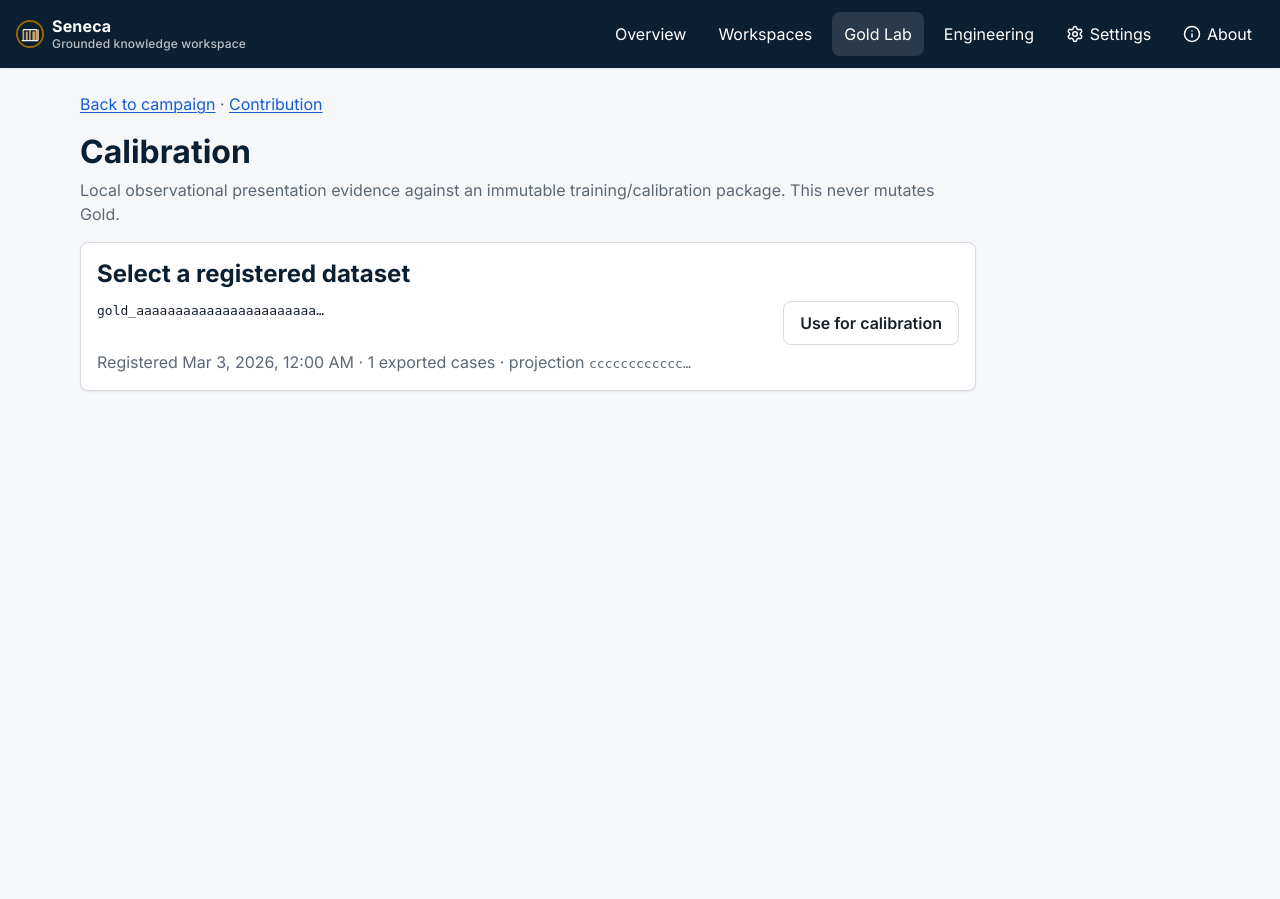
16G-I4 calibration surface › Evidence Sweep batches at most 5 and stays local
Click the button "Use for calibration".
click(871, 323)  # box [783,301,959,345]
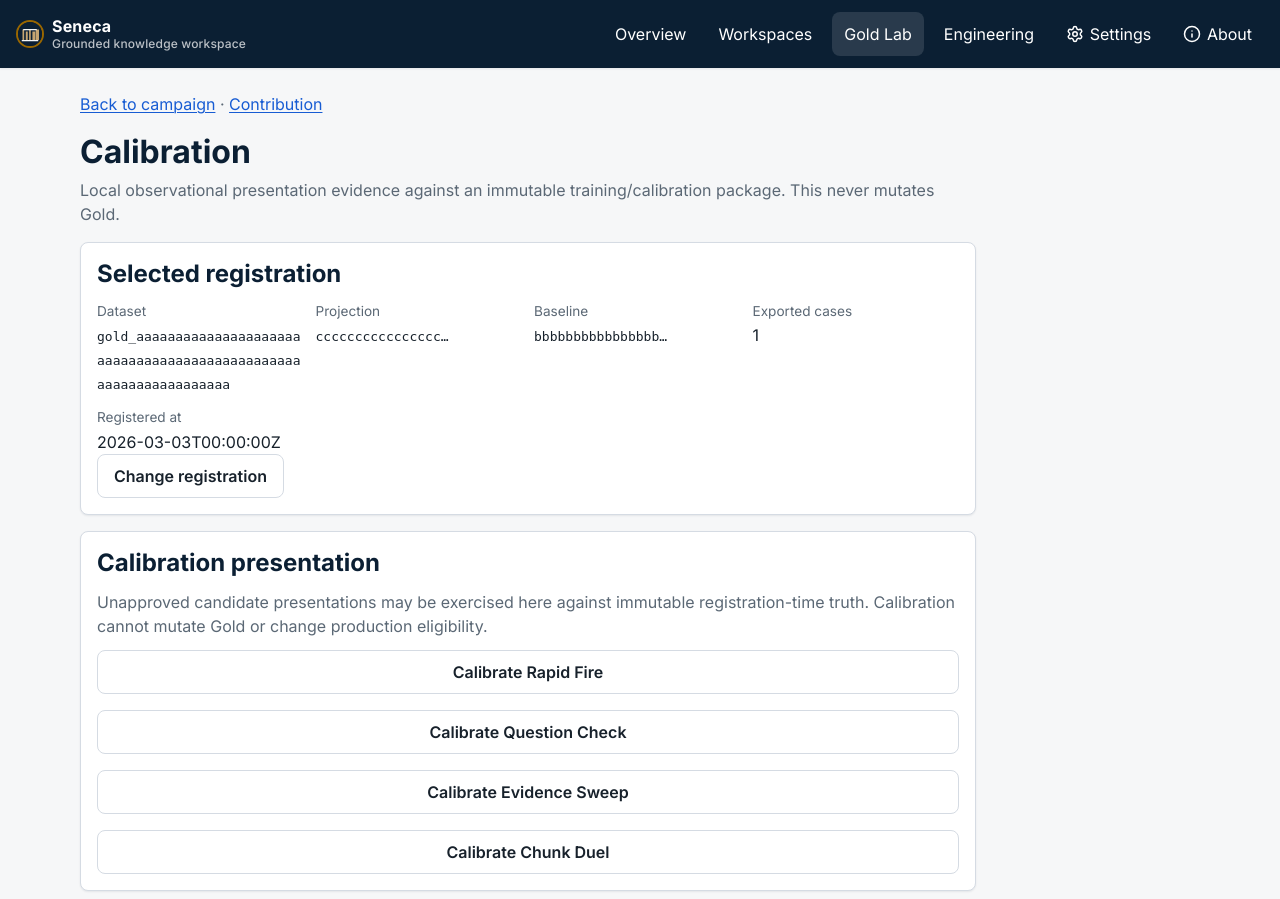
Click the button "Calibrate Evidence Sweep".
click(528, 792)  # box [97,770,959,814]
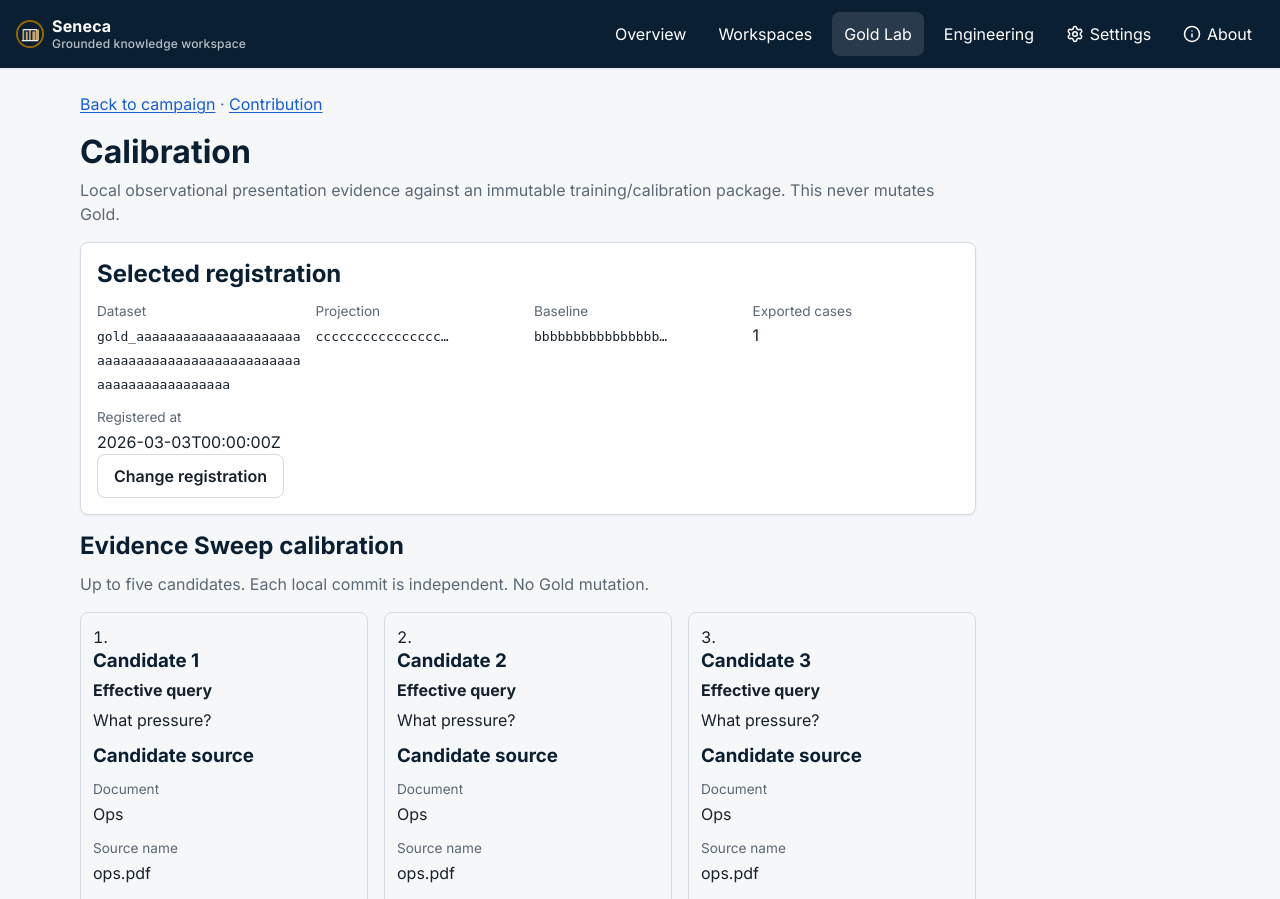
Now the number of list items is 5
